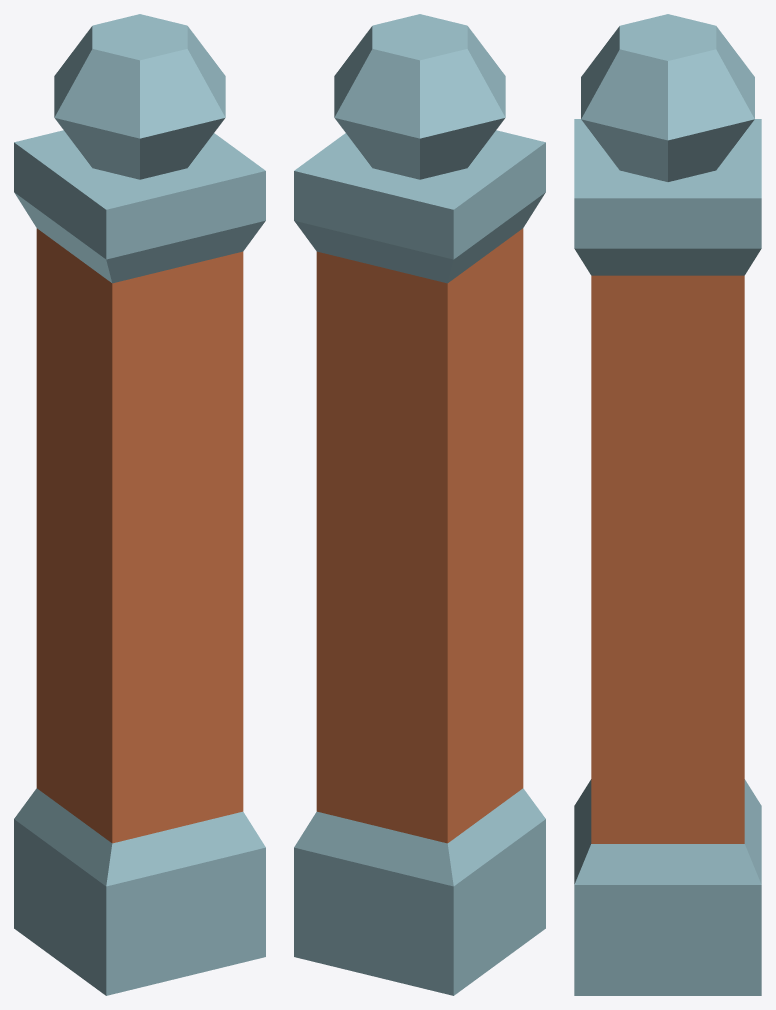
The model's file is pillarLarge.obj.
3 views of the same model, side by side, from view 1: azimuth 30°, elevation 25°; view 2: azimuth 150°, elevation 25°; view 3: azimuth 270°, elevation 25° (orthographic).
Visible parts, largest first — view 1: pillarLarge; view 2: pillarLarge; view 3: pillarLarge.
Boxes of the visible parts, bbox=[...] form: pillarLarge: bbox=[14, 14, 265, 995]; pillarLarge: bbox=[294, 14, 545, 995]; pillarLarge: bbox=[574, 14, 761, 995].
Bounding box in the file's own units: 0.18 × 0.91 × 0.168.
